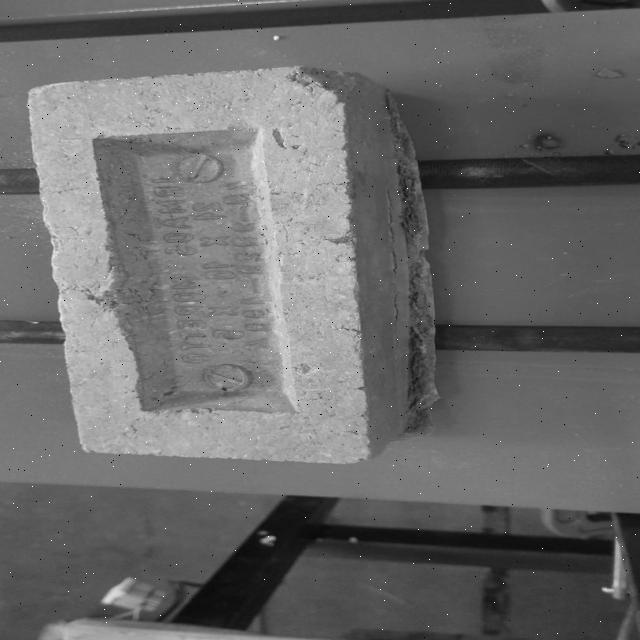bricks_ruin: (26, 62, 439, 464)
